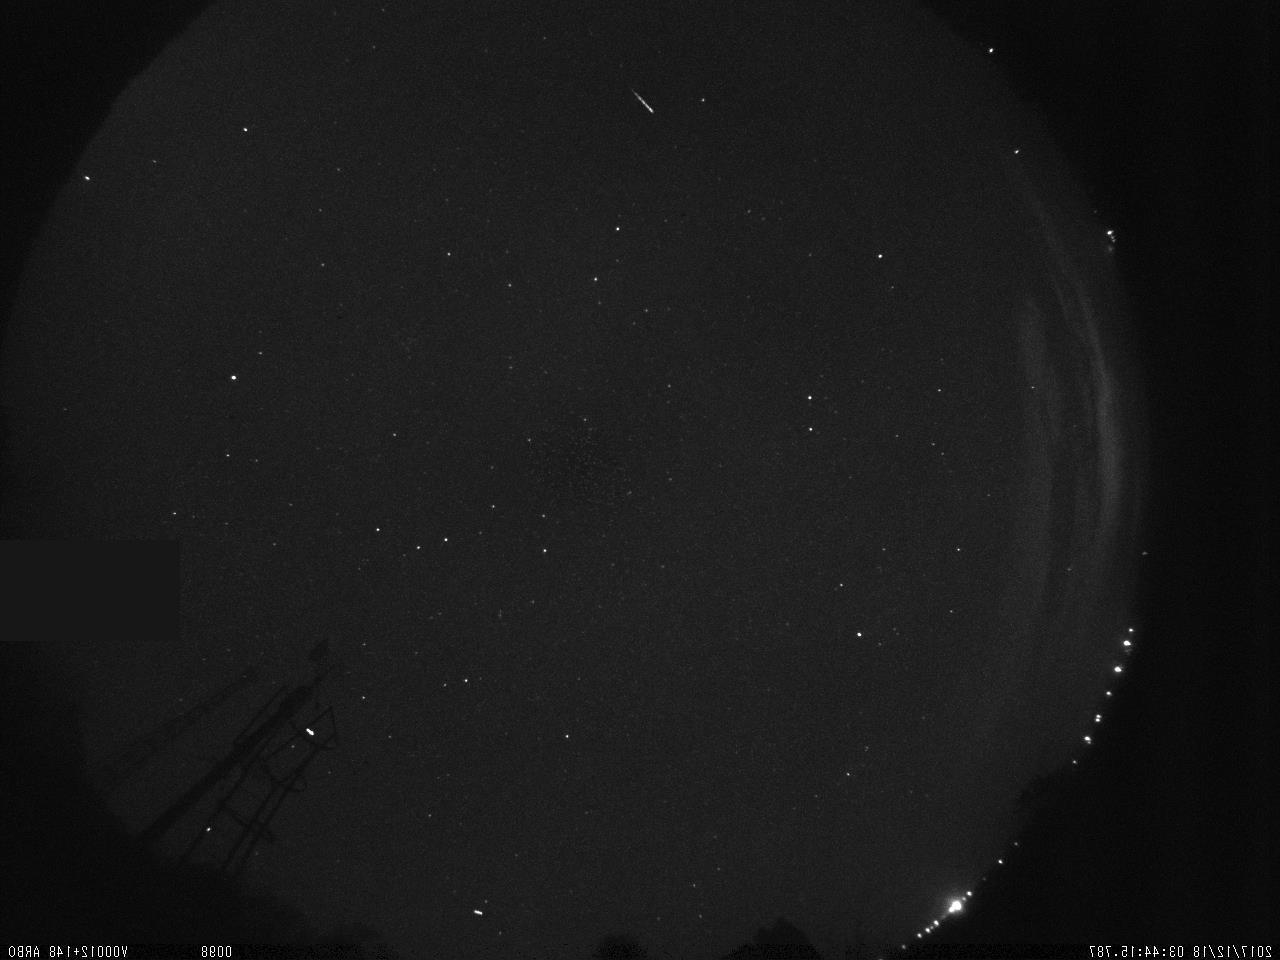meteor: (626, 83, 661, 116)
